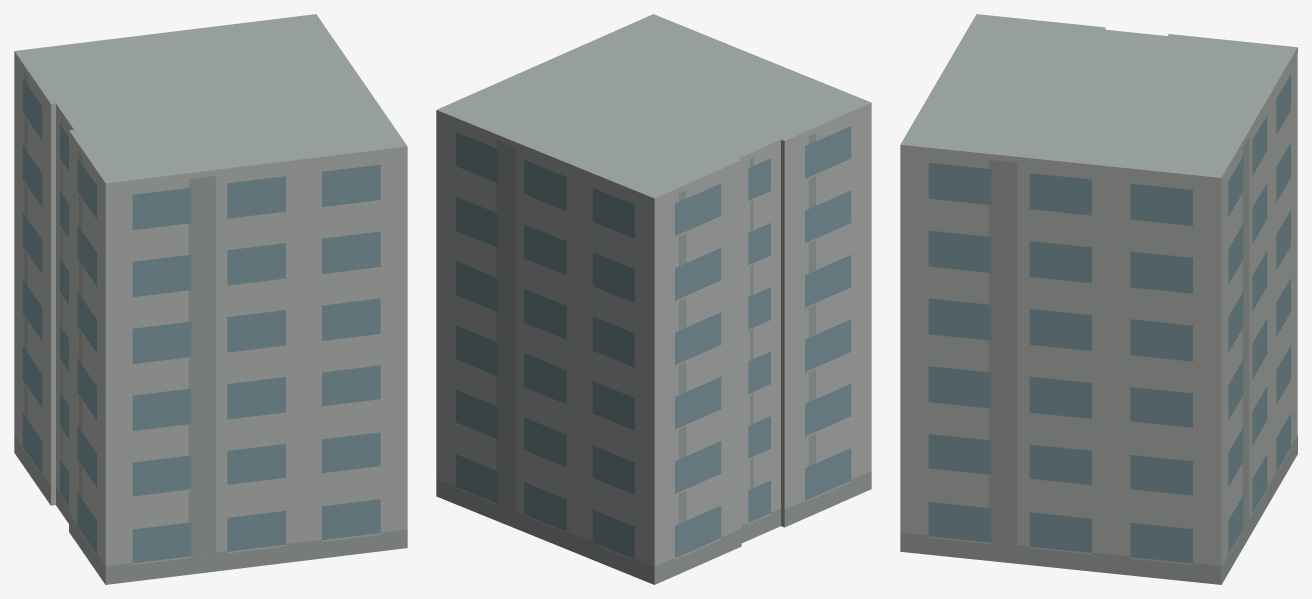
File: survey-upis-32994720.glb
3 views of the same model, side by side, from view 1: azimuth 30°, elevation 25°; view 2: azimuth 150°, elevation 25°; view 3: azimuth 270°, elevation 25° (orthographic). The views are drawn at different scales.
Parts seen in each view (by area): view 1: survey-upis-32994720.tmp; view 2: survey-upis-32994720.tmp; view 3: survey-upis-32994720.tmp.
Boxes of the visible parts, bbox=[...] form: survey-upis-32994720.tmp: bbox=[14, 14, 407, 584]; survey-upis-32994720.tmp: bbox=[436, 14, 871, 584]; survey-upis-32994720.tmp: bbox=[900, 14, 1297, 584].
Bounding box in the file's own units: 14.35 × 16.6 × 14.71.
